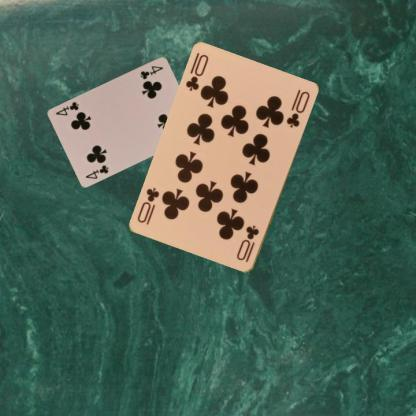10c: (234, 222, 261, 264), (183, 52, 210, 93)
4c: (83, 162, 110, 180), (138, 63, 164, 80)
